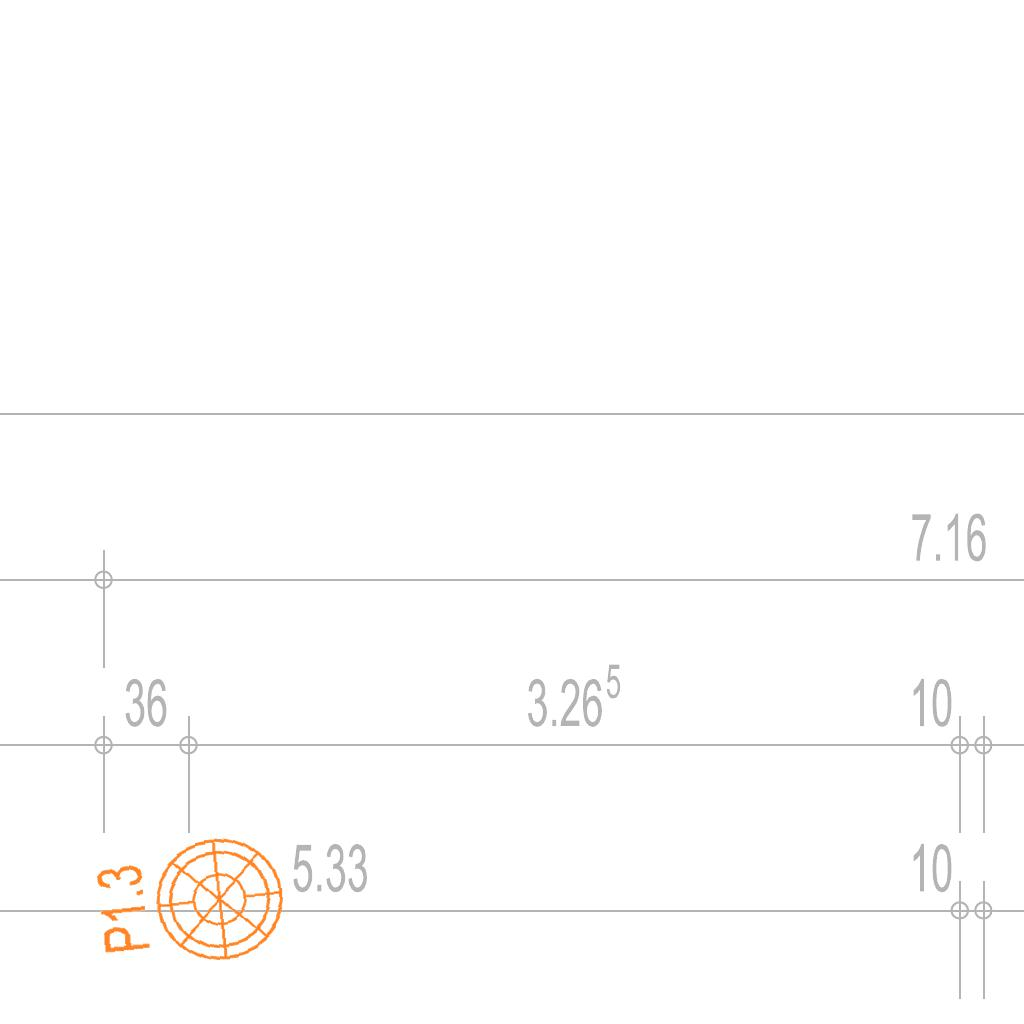Aufbaurundleuchte_LED_Treppenhaus: (74, 817, 293, 978)
